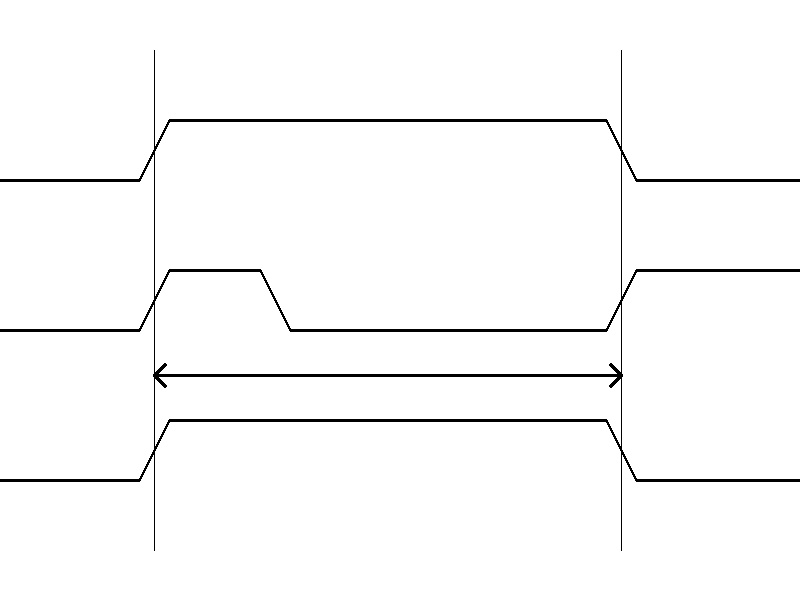double_arrow: (154, 360, 621, 390)
